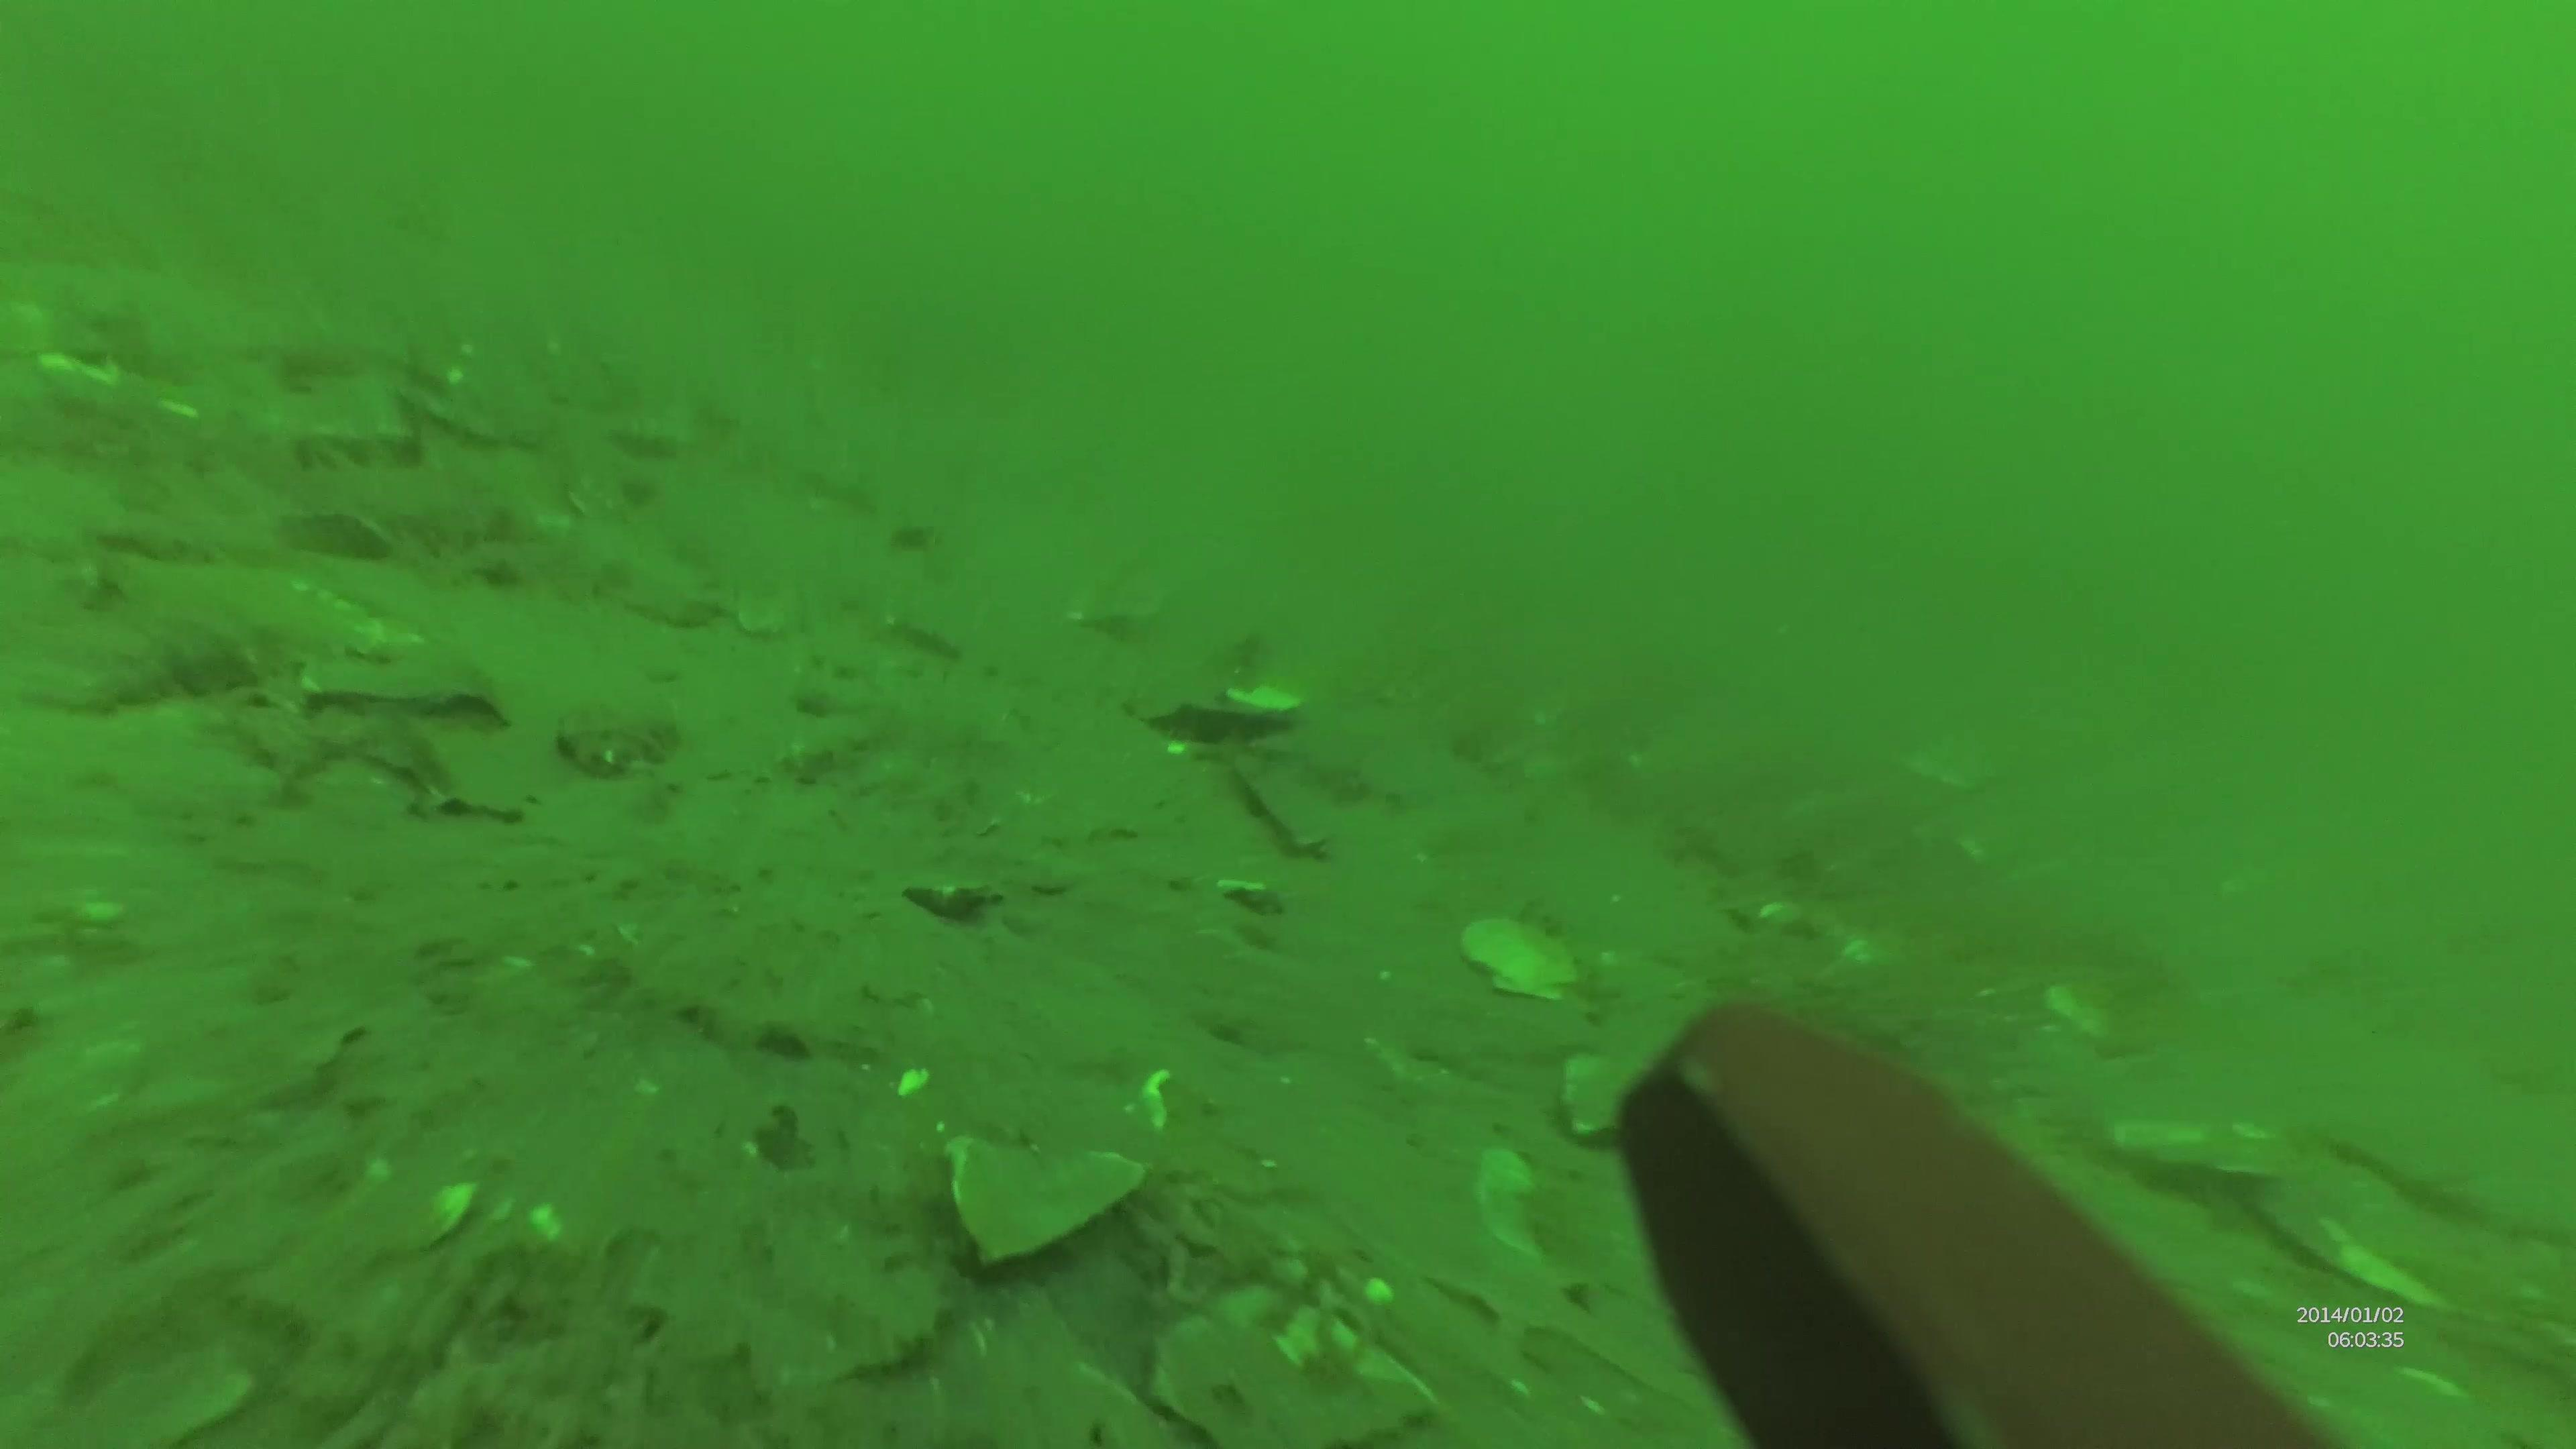scallop: (1463, 908, 1589, 1010), (1228, 748, 1350, 853), (904, 862, 1008, 931), (1233, 671, 1311, 722)
